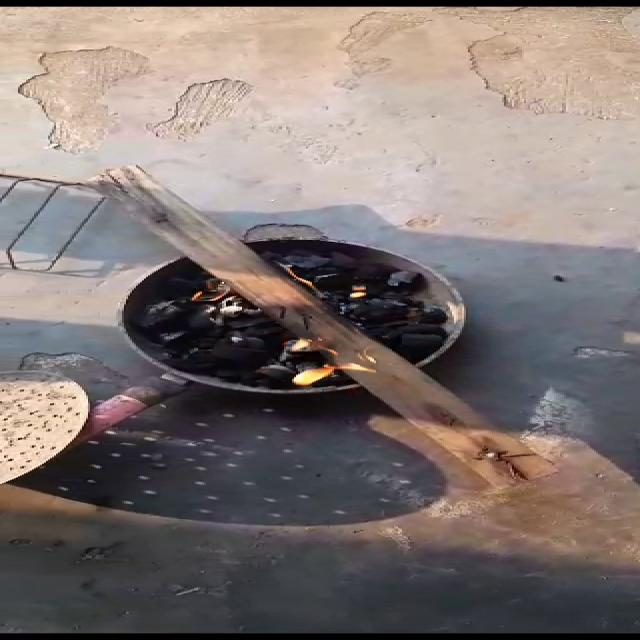Fire: (276, 333, 385, 391)
